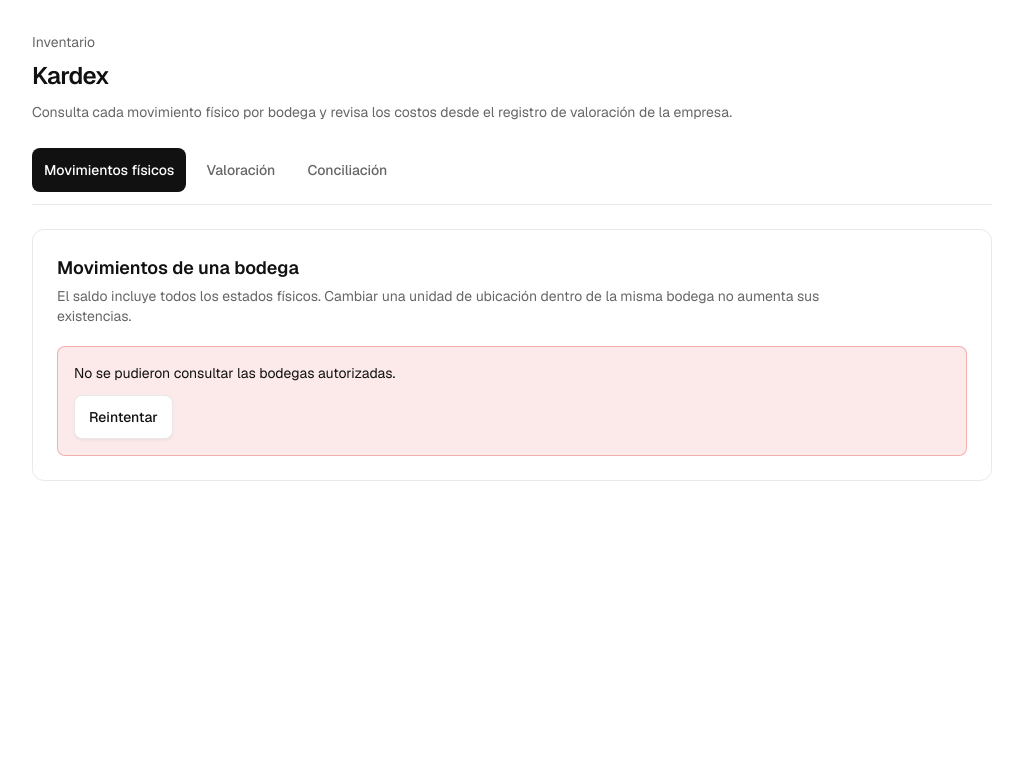
Test: Kardex valorado y cambio de alcance › descarta una respuesta valorada pendiente al cambiar branch
The image size is (1024, 768).
Click the tab "Conciliación".
click(347, 170)  # box [295,148,399,192]
(page scrolled)
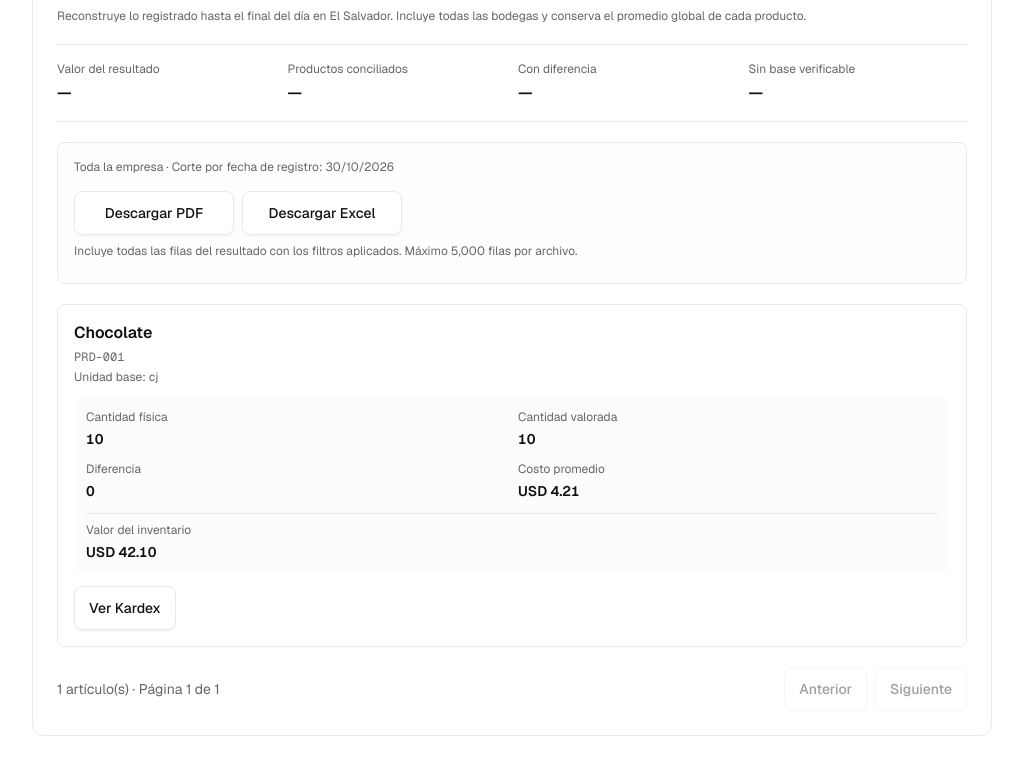
Click the button named "Ver Kardex de Chocolate".
click(125, 608)  # box [74,586,176,630]
(page scrolled)
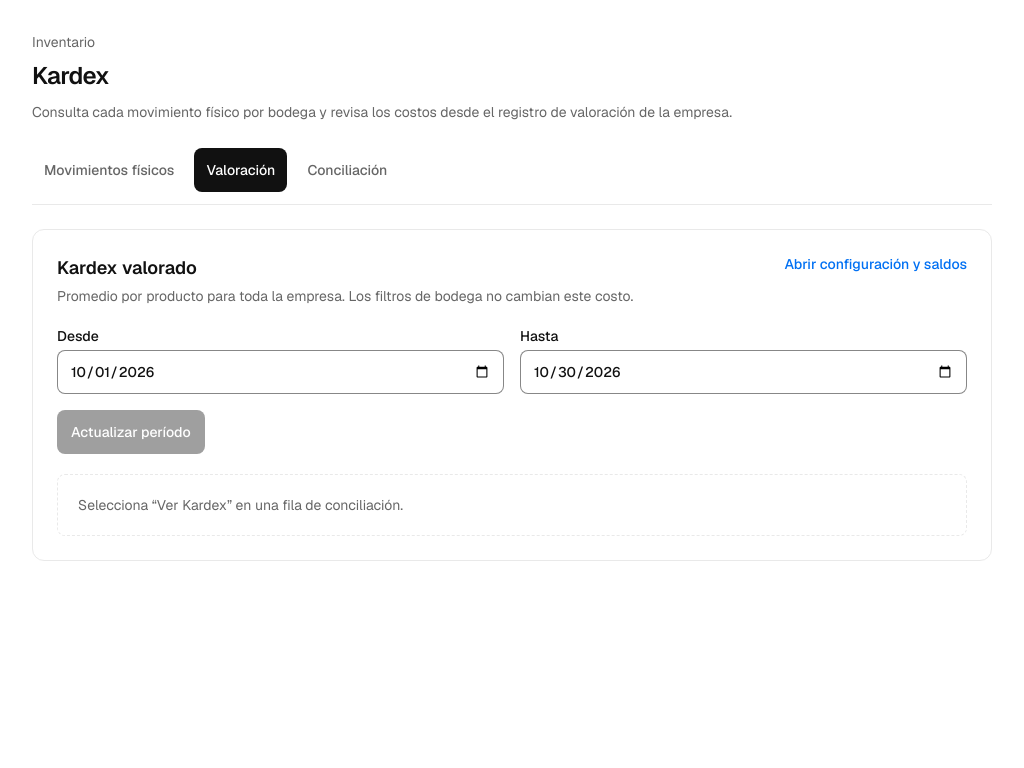
Expected: the text "USD 42.10" is gone
